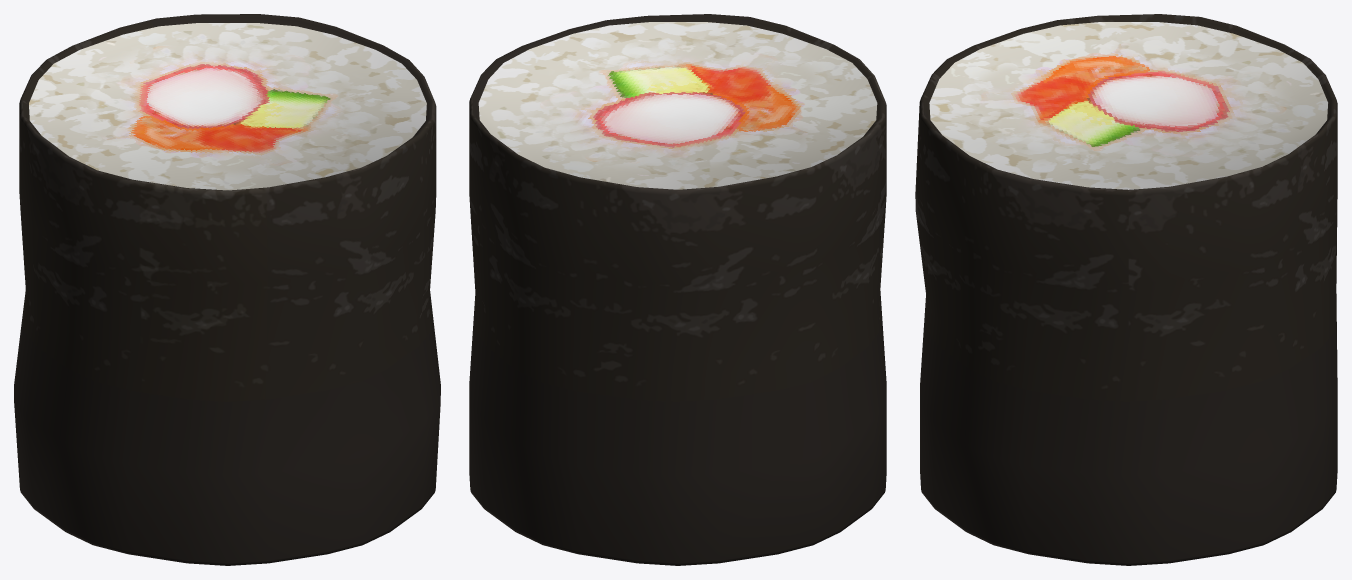
The model's file is Cali.fbx.
3 renders of one model, left to right at view 1: azimuth 30°, elevation 25°; view 2: azimuth 150°, elevation 25°; view 3: azimuth 270°, elevation 25°, orthographic.
Visible parts, largest first — view 1: Sushi_Cali; view 2: Sushi_Cali; view 3: Sushi_Cali.
Boxes of the visible parts, <box> form: Sushi_Cali: <box>14,14,440,565</box>; Sushi_Cali: <box>469,14,886,565</box>; Sushi_Cali: <box>915,14,1337,565</box>.
Bounding box in the file's own units: 0.4564 × 0.4558 × 0.4506.
